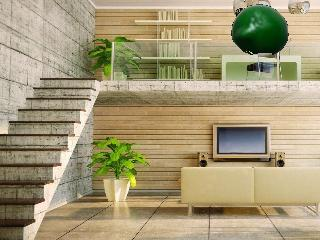lime: (228, 3, 296, 59)
